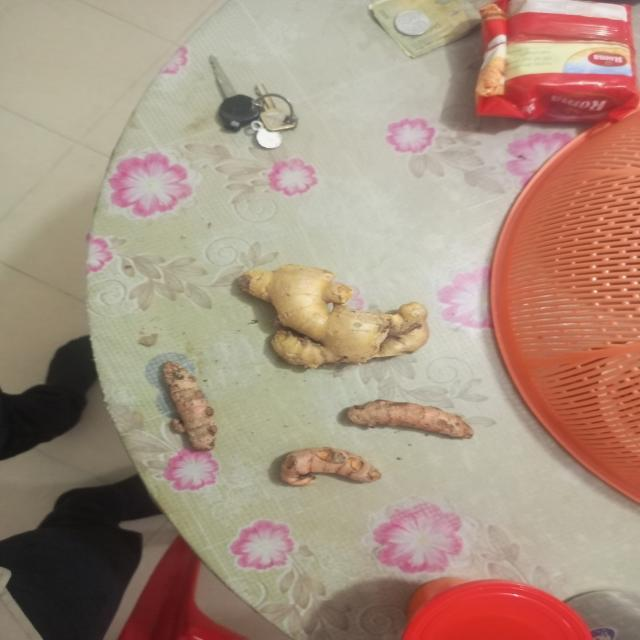ginger: (248, 272, 426, 366), (158, 363, 220, 453), (350, 398, 478, 440), (279, 446, 381, 487)
